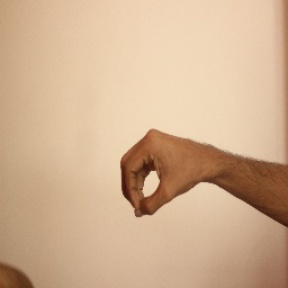O: (114, 128, 206, 219)
